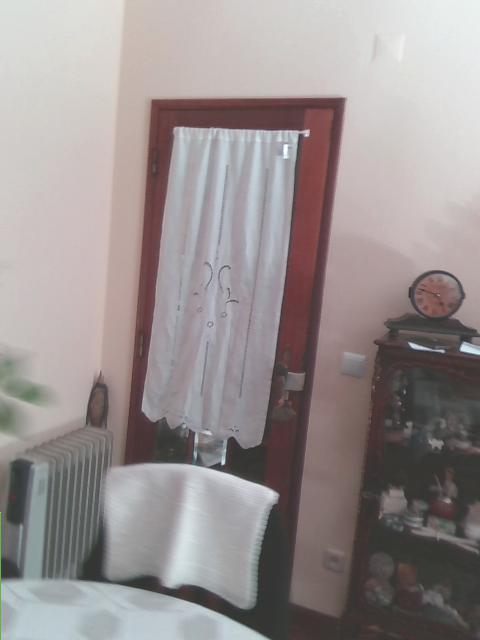closed_door: (111, 97, 344, 624)
